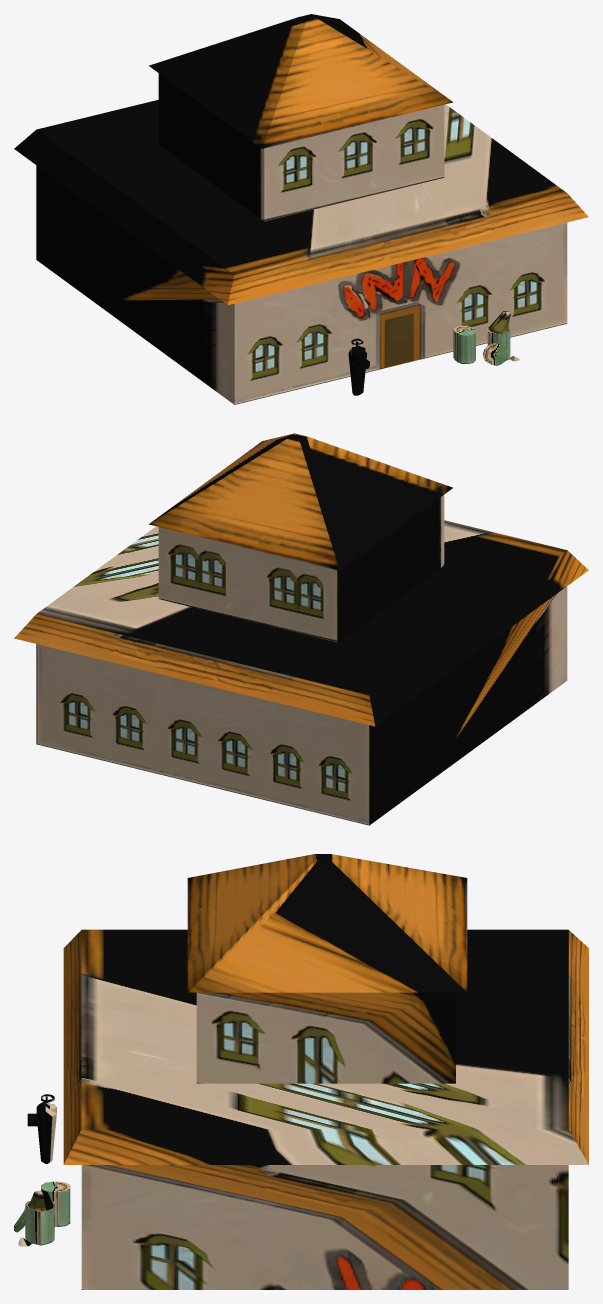
File: Inn.glb
3 views of the same model, one above another, from view 1: azimuth 30°, elevation 25°; view 2: azimuth 150°, elevation 25°; view 3: azimuth 270°, elevation 25° (orthographic). The views are drawn at different scales.
Parts seen in each view (by area): view 1: Inn; view 2: Inn; view 3: Inn.
Part boxes in pixels (x1=…): Inn: x1=14, y1=14, x2=588, y2=404; Inn: x1=14, y1=433, x2=588, y2=825; Inn: x1=14, y1=854, x2=588, y2=1289.
Bounding box in the file's own units: 170 × 126 × 190.
Materials: 1 (1 with a texture image).
